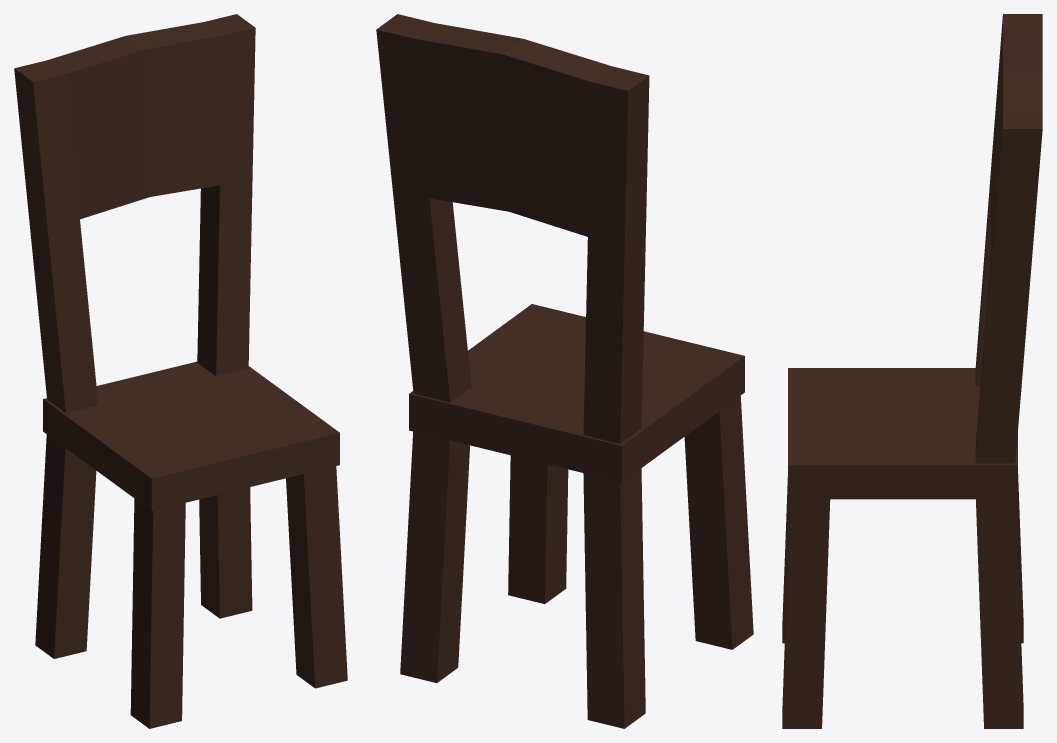
The model's file is chair.fbx.
3 views of the same model, side by side, from view 1: azimuth 30°, elevation 25°; view 2: azimuth 150°, elevation 25°; view 3: azimuth 270°, elevation 25° (orthographic). The views are drawn at different scales.
Visible parts, largest first — view 1: Cube.021; view 2: Cube.021; view 3: Cube.021.
Boxes of the visible parts, x1,y1,x2,y2 form: Cube.021: [14, 14, 347, 728]; Cube.021: [376, 14, 753, 728]; Cube.021: [782, 14, 1042, 728].
Bounding box in the file's own units: 609 × 1513 × 584.
